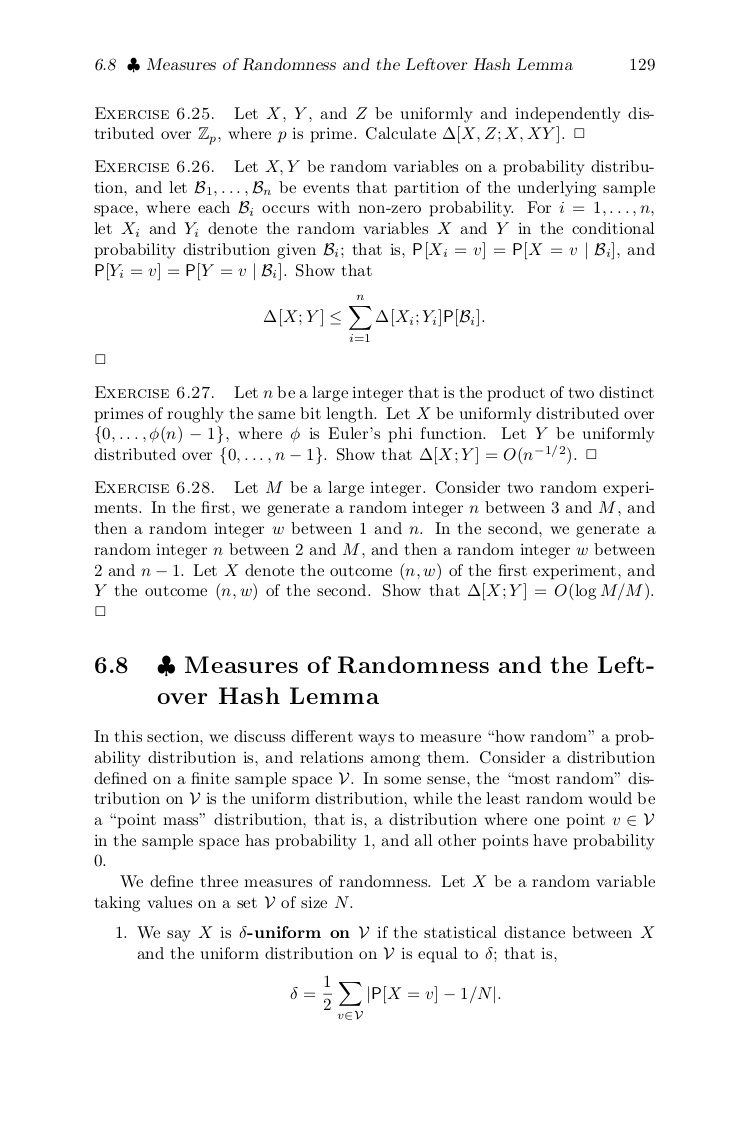formula: (264, 294, 484, 341), (290, 974, 500, 1020)
